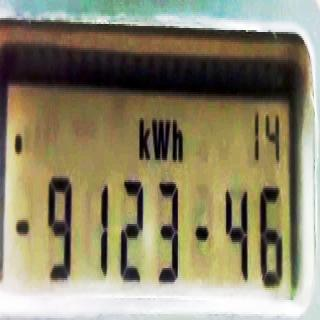-: (14, 207, 30, 244), (193, 218, 210, 251), (14, 125, 22, 163)
1: (98, 177, 110, 283), (253, 106, 260, 169)
2: (118, 173, 145, 290)
3: (157, 172, 180, 291)
4: (224, 180, 250, 291), (264, 108, 281, 170)
6: (259, 177, 284, 301)
9: (45, 168, 74, 294)
